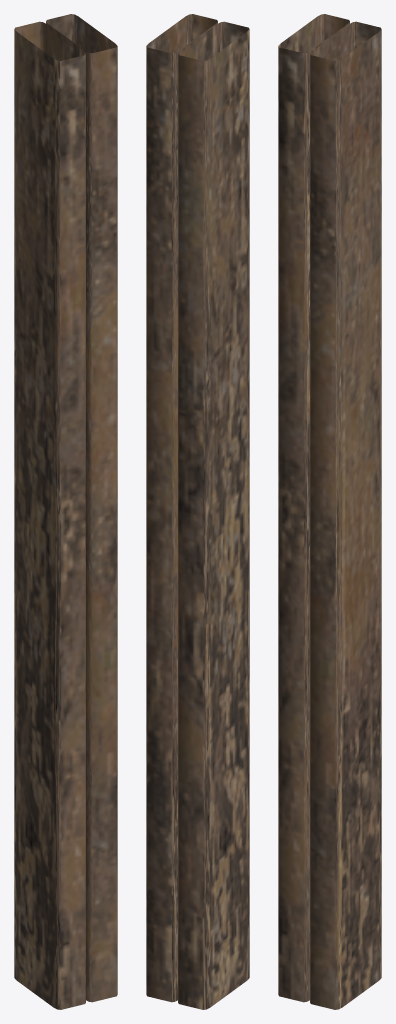
File: WindowSet_Square_Split.fbx
The picture shows the model from 3 angles, left to right: view 1: azimuth 30°, elevation 25°; view 2: azimuth 150°, elevation 25°; view 3: azimuth 330°, elevation 25°; orthographic projection.
Parts seen in each view (by area): view 1: WindowSet_Square_Split_LOD0; view 2: WindowSet_Square_Split_LOD0; view 3: WindowSet_Square_Split_LOD0.
Part boxes in pixels (x1=…): WindowSet_Square_Split_LOD0: x1=14, y1=14, x2=117, y2=1009; WindowSet_Square_Split_LOD0: x1=146, y1=14, x2=249, y2=1009; WindowSet_Square_Split_LOD0: x1=278, y1=14, x2=381, y2=1009.
Size of what is drawn, in the model's own units: 3.24 by 47.53 by 4.14.
